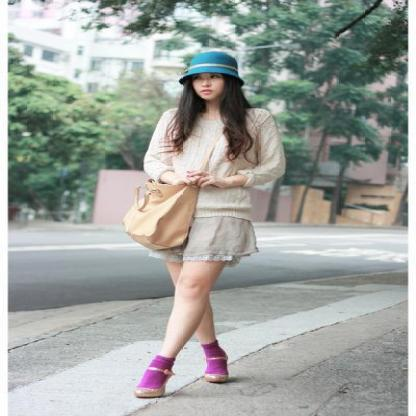bag: (119, 178, 208, 257)
hat: (162, 51, 238, 77)
shirt: (144, 108, 286, 217)
shoe: (137, 207, 260, 398)
skirt: (140, 333, 240, 388)
